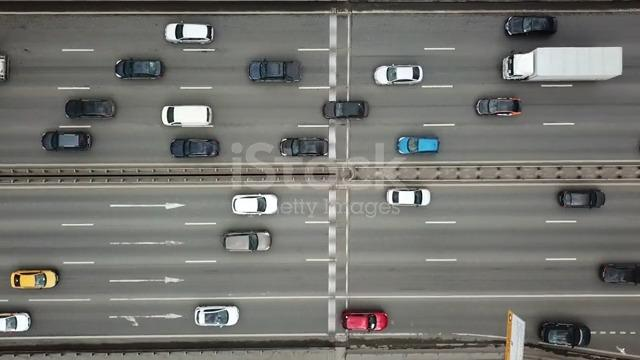Cars: (539, 321, 591, 348), (249, 59, 302, 84), (161, 105, 214, 128), (505, 15, 558, 37), (41, 130, 92, 152), (374, 64, 424, 86), (115, 58, 165, 80), (165, 23, 214, 45), (65, 98, 116, 119), (341, 310, 389, 332), (170, 138, 220, 158), (280, 137, 329, 157), (476, 97, 522, 117), (600, 263, 640, 285), (397, 136, 440, 155), (1, 312, 32, 333)
